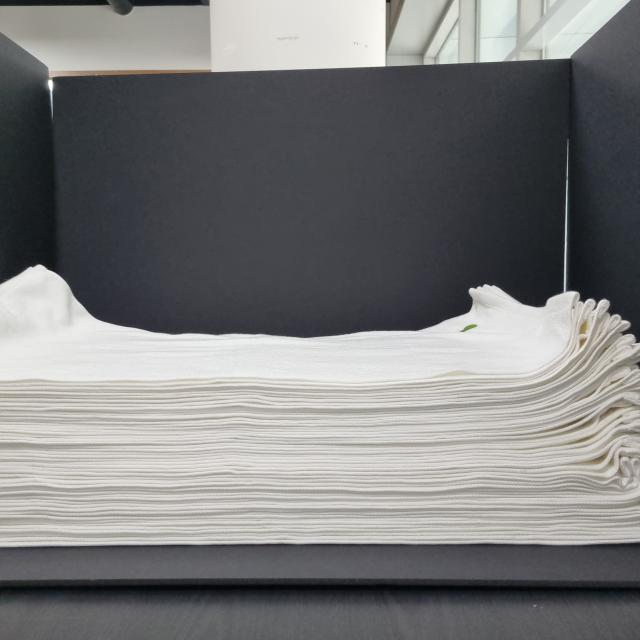50_towel_counts: (0, 246, 629, 566)
